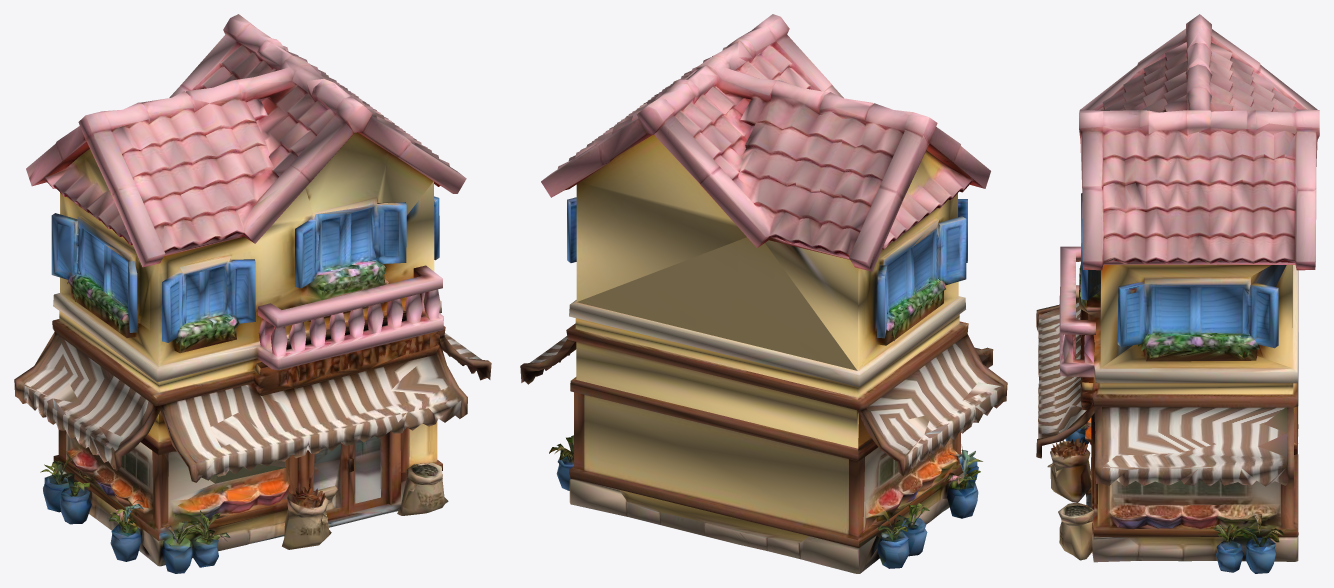
Rendered from teh-rempah.glb.
3 renders of one model, left to right at view 1: azimuth 30°, elevation 25°; view 2: azimuth 150°, elevation 25°; view 3: azimuth 270°, elevation 25°, orthographic. The views are drawn at different scales.
Visible parts, largest first — view 1: node_0; view 2: node_0; view 3: node_0.
Part boxes in pixels (<box>): node_0: <box>14,14,491,573</box>; node_0: <box>520,14,1007,573</box>; node_0: <box>1036,14,1319,573</box>.
Bounding box in the file's own units: 0.8246 × 0.8844 × 0.5553.
Materials: 1 (1 with a texture image).
